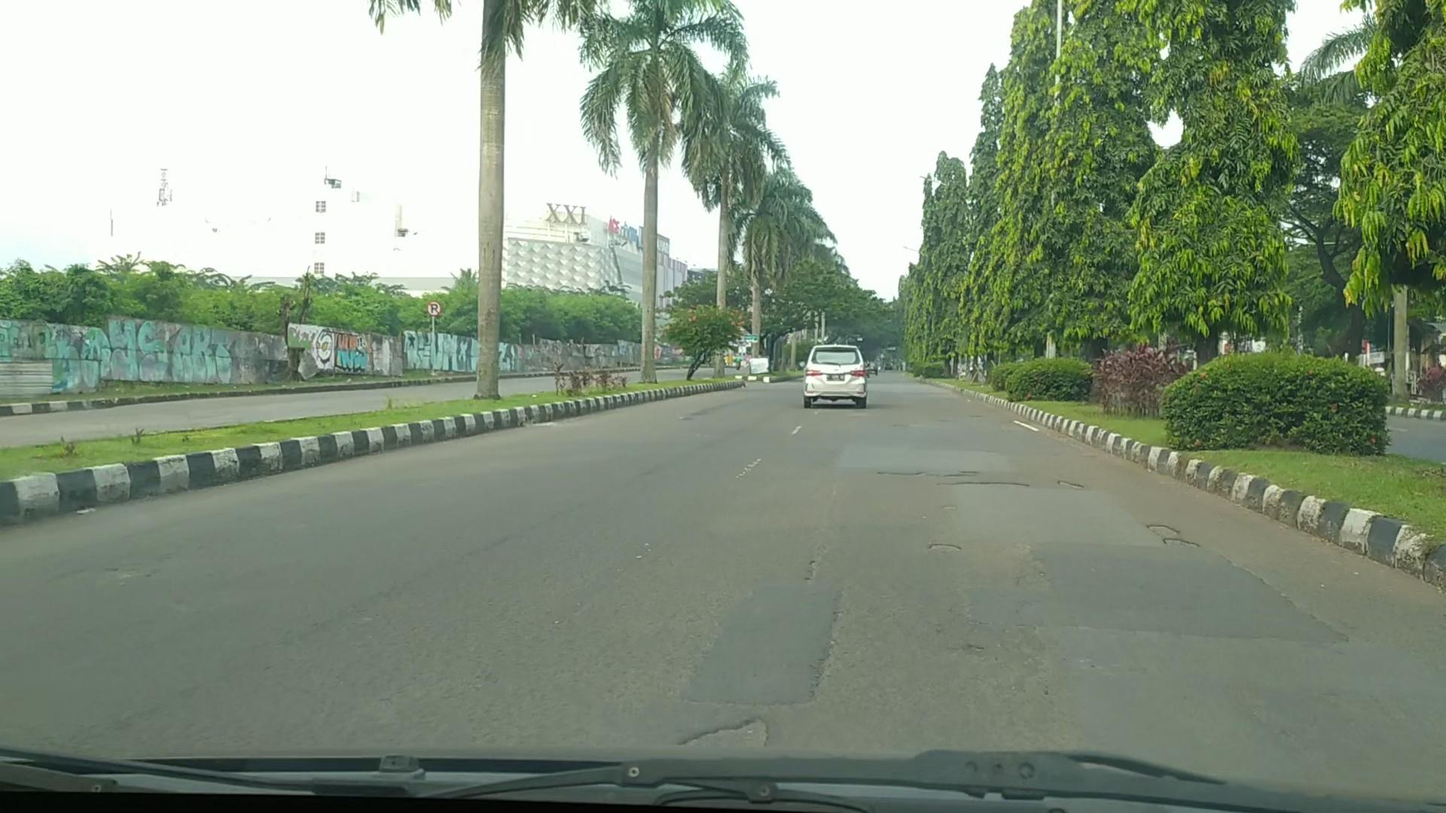pothole: (672, 716, 770, 749), (937, 481, 1029, 486), (1144, 524, 1179, 537), (926, 541, 961, 553), (1162, 538, 1200, 549), (876, 470, 939, 476), (1056, 480, 1086, 488), (943, 473, 973, 477), (941, 505, 957, 510), (961, 470, 979, 474)
